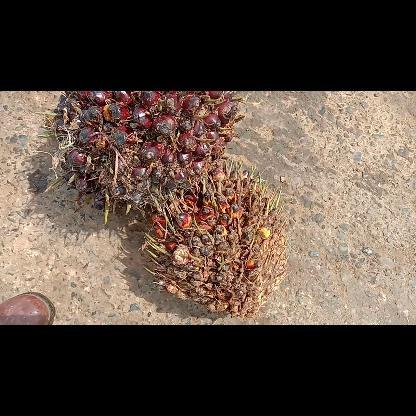Kurang masak: (36, 91, 242, 221)
TBS abnormal: (144, 156, 288, 320)
